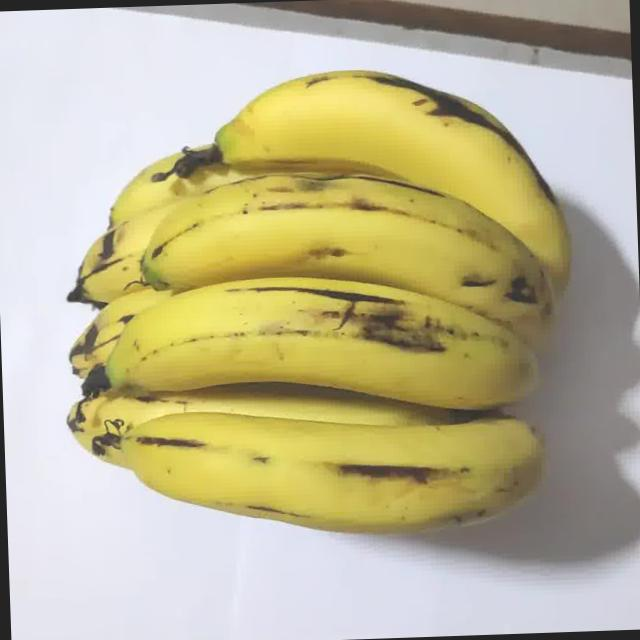banana_pacche: (52, 36, 624, 591)
